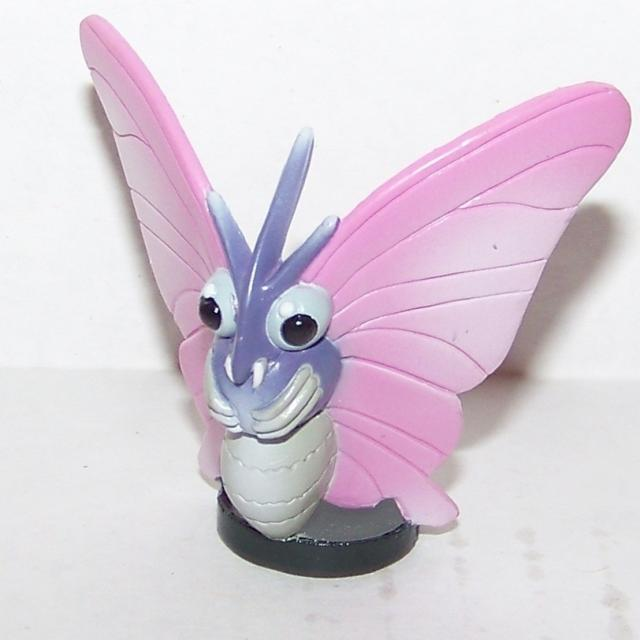Venomoth: (70, 119, 610, 576)
